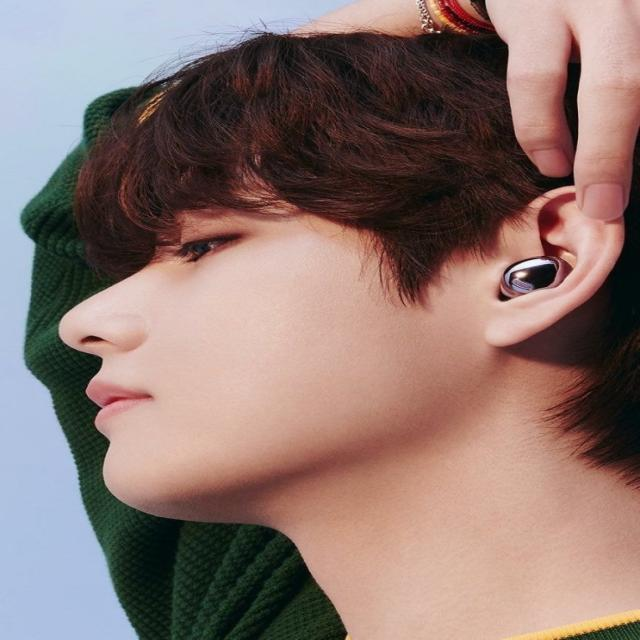earphone: (492, 240, 582, 333)
